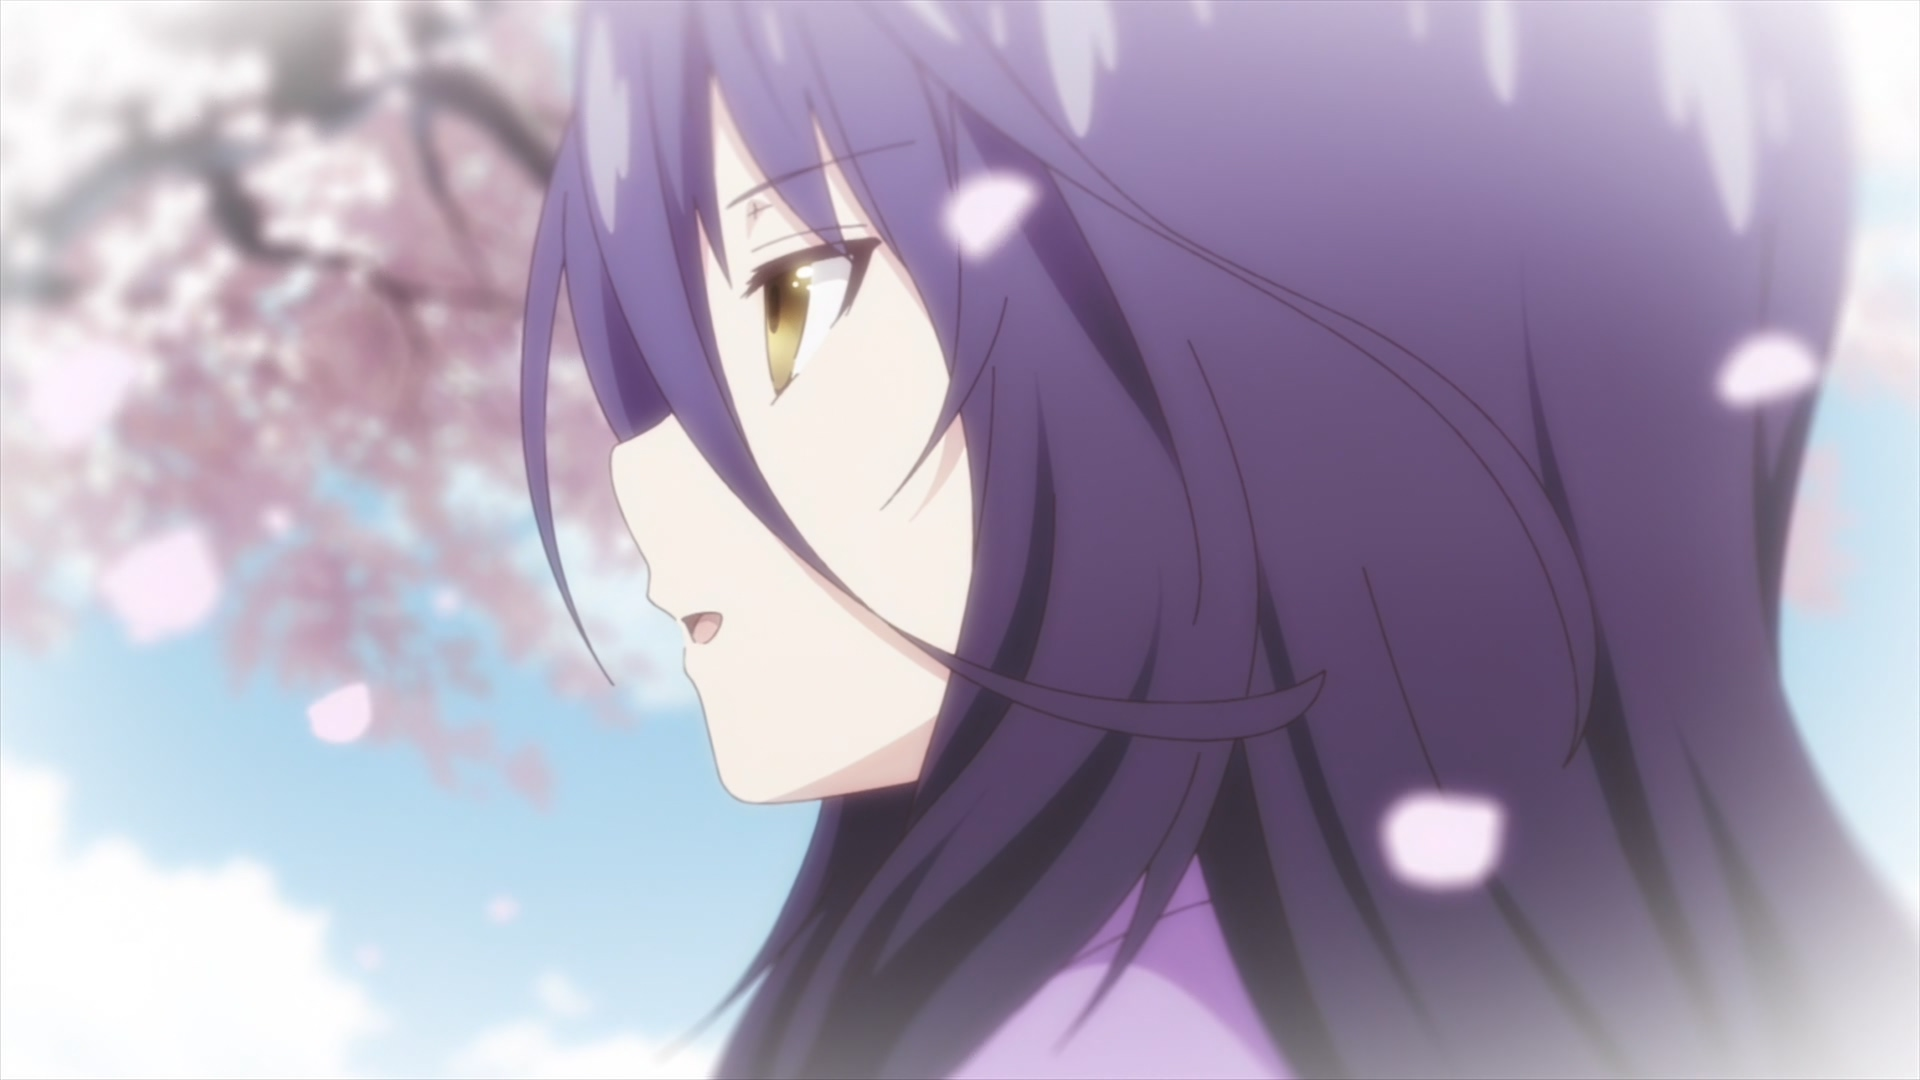皋: (516, 1, 1920, 1080)
